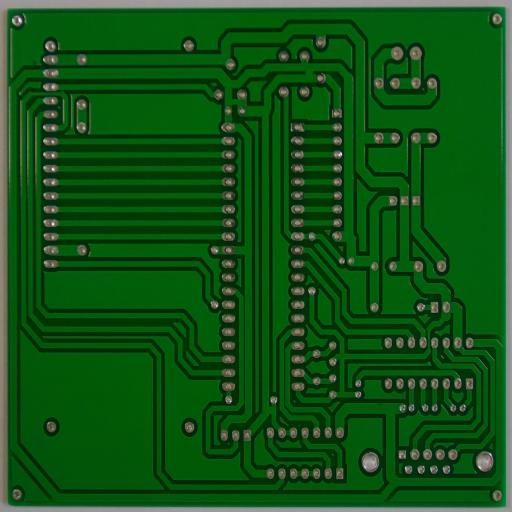short_circuit: (225, 93, 244, 111), (301, 64, 318, 83)
